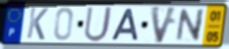0: (53, 6, 75, 42)
A: (109, 8, 140, 42)
K: (25, 6, 50, 41)
N: (174, 8, 206, 44)
U: (83, 6, 114, 44)
V: (150, 5, 180, 45)
